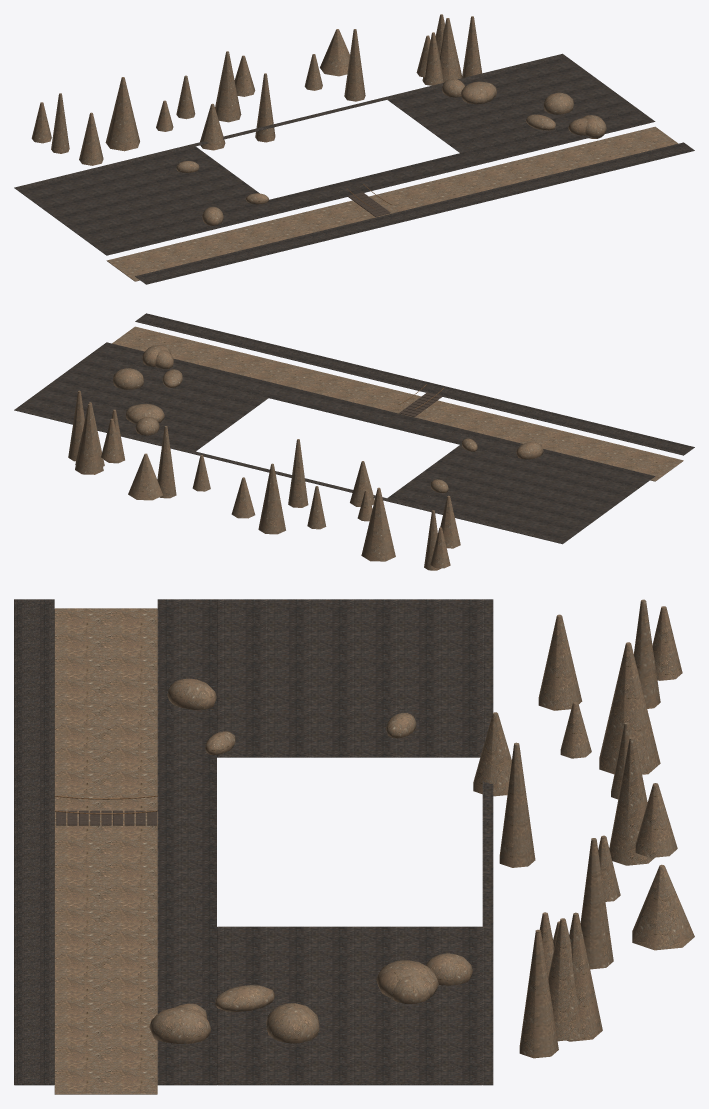
The model's file is lava-luar.glb.
3 views of the same model, one above another, from view 1: azimuth 30°, elevation 25°; view 2: azimuth 150°, elevation 25°; view 3: azimuth 270°, elevation 25° (orthographic). The views are drawn at different scales.
Visible parts, largest first — view 1: statis; view 2: statis; view 3: statis.
Boxes of the visible parts, x1,y1,x2,y2 form: statis: [14, 14, 694, 284]; statis: [14, 313, 694, 570]; statis: [14, 599, 694, 1094].
Bounding box in the file's own units: 42.4 × 4.99 × 25.14.
Materials: 6 (5 with a texture image).
